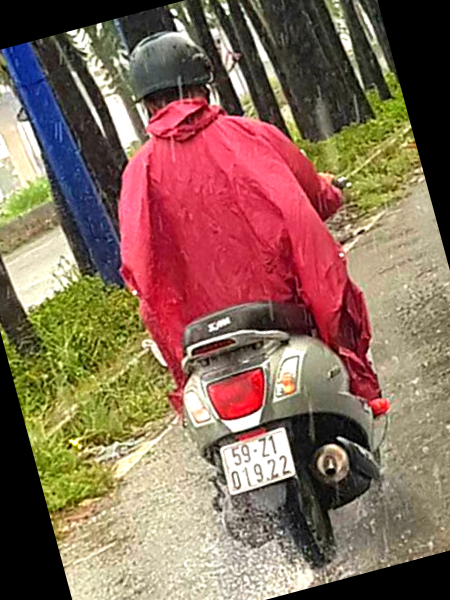number: (221, 431, 294, 495)
